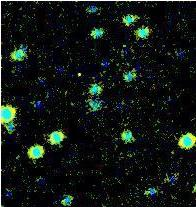star: (0, 57, 16, 87)
